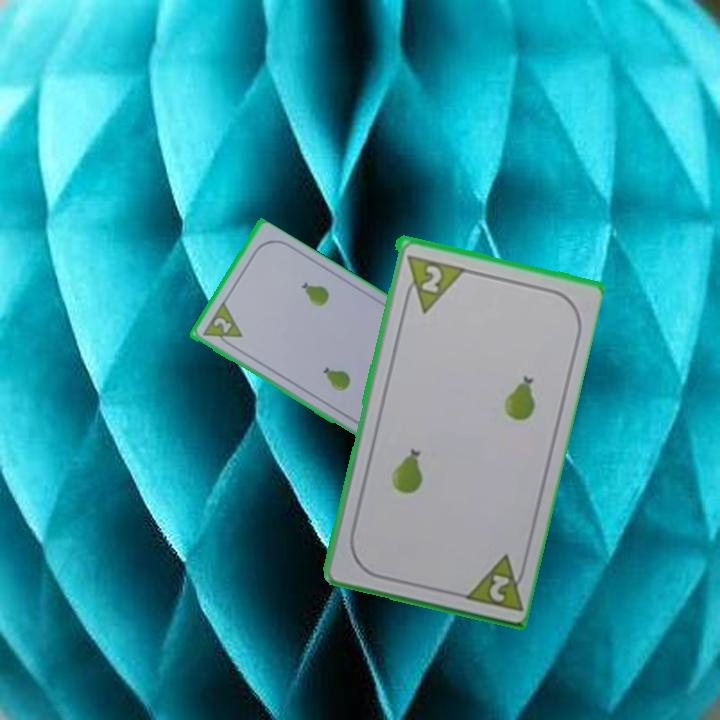2p: (416, 261, 445, 296), (485, 570, 512, 605), (209, 313, 234, 337)
